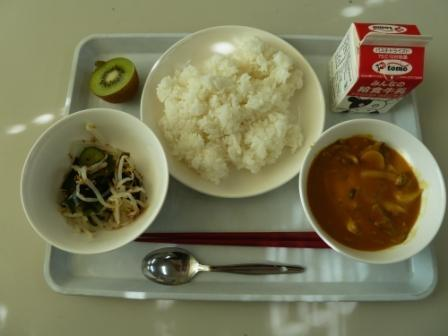Curry: (294, 124, 435, 259)
Milk: (331, 17, 428, 113)
Rice: (155, 38, 316, 183)
Salad: (19, 112, 158, 238)
kiwi: (79, 50, 146, 105)
